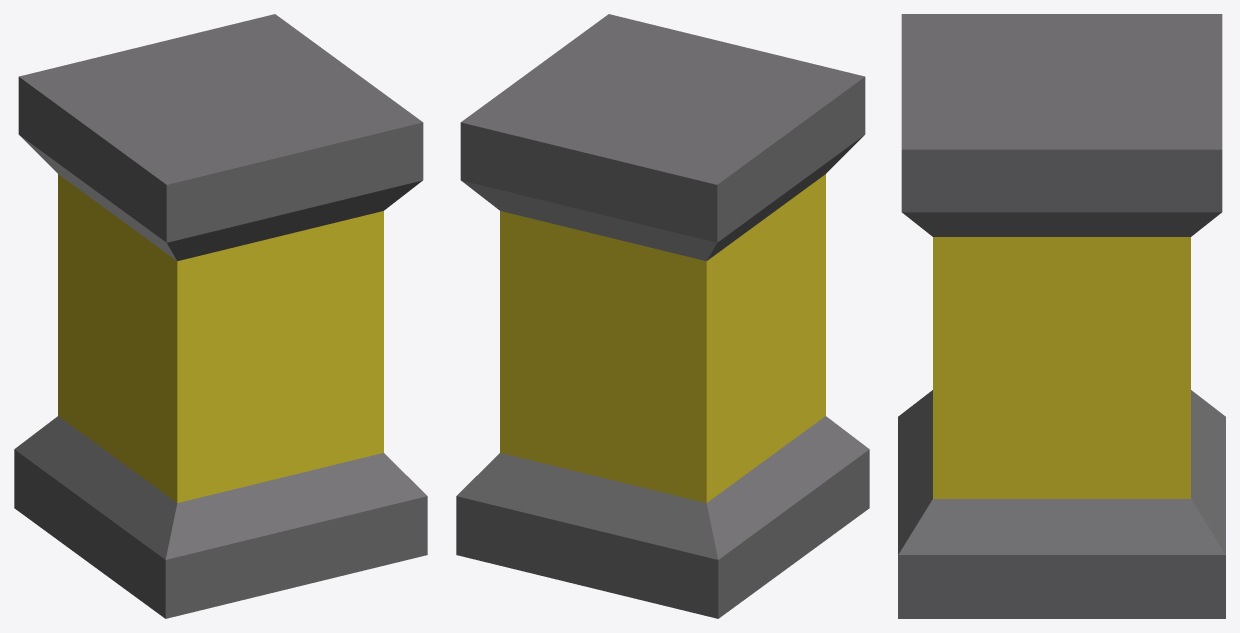
Rendered from StageT3.fbx.
3 views of the same model, side by side, from view 1: azimuth 30°, elevation 25°; view 2: azimuth 150°, elevation 25°; view 3: azimuth 270°, elevation 25° (orthographic). The views are drawn at different scales.
Parts seen in each view (by area): view 1: 立方体.001; view 2: 立方体.001; view 3: 立方体.001.
Boxes of the visible parts, x1,y1,x2,y2 form: 立方体.001: (14,14,427,618); 立方体.001: (456,14,869,618); 立方体.001: (898,14,1225,618).
Bounding box in the file's own units: 1.27 × 2 × 1.27.
